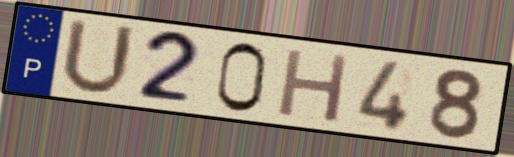0: (213, 40, 271, 114)
2: (131, 29, 208, 108)
4: (355, 57, 413, 132)
8: (426, 66, 488, 141)
H: (274, 45, 354, 126)
U: (57, 15, 139, 99)
